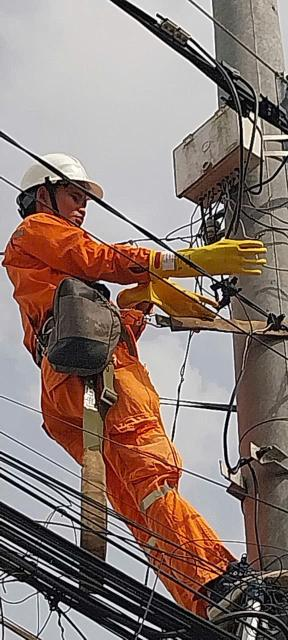gloves: (142, 229, 280, 300), (91, 268, 230, 328)
harness: (0, 300, 157, 377)
helmet: (8, 151, 105, 213)
shoes: (172, 556, 288, 622)
